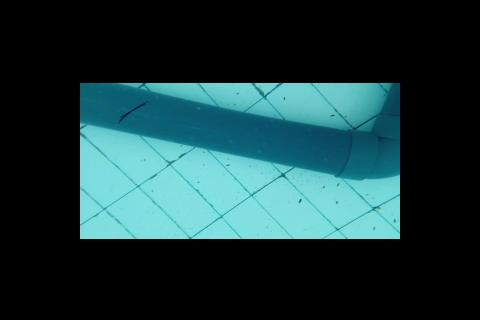keretakan: (115, 99, 149, 124)
